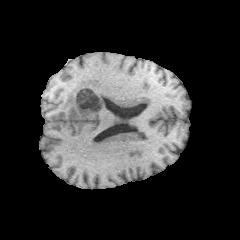glioma: (62, 79, 137, 134)
